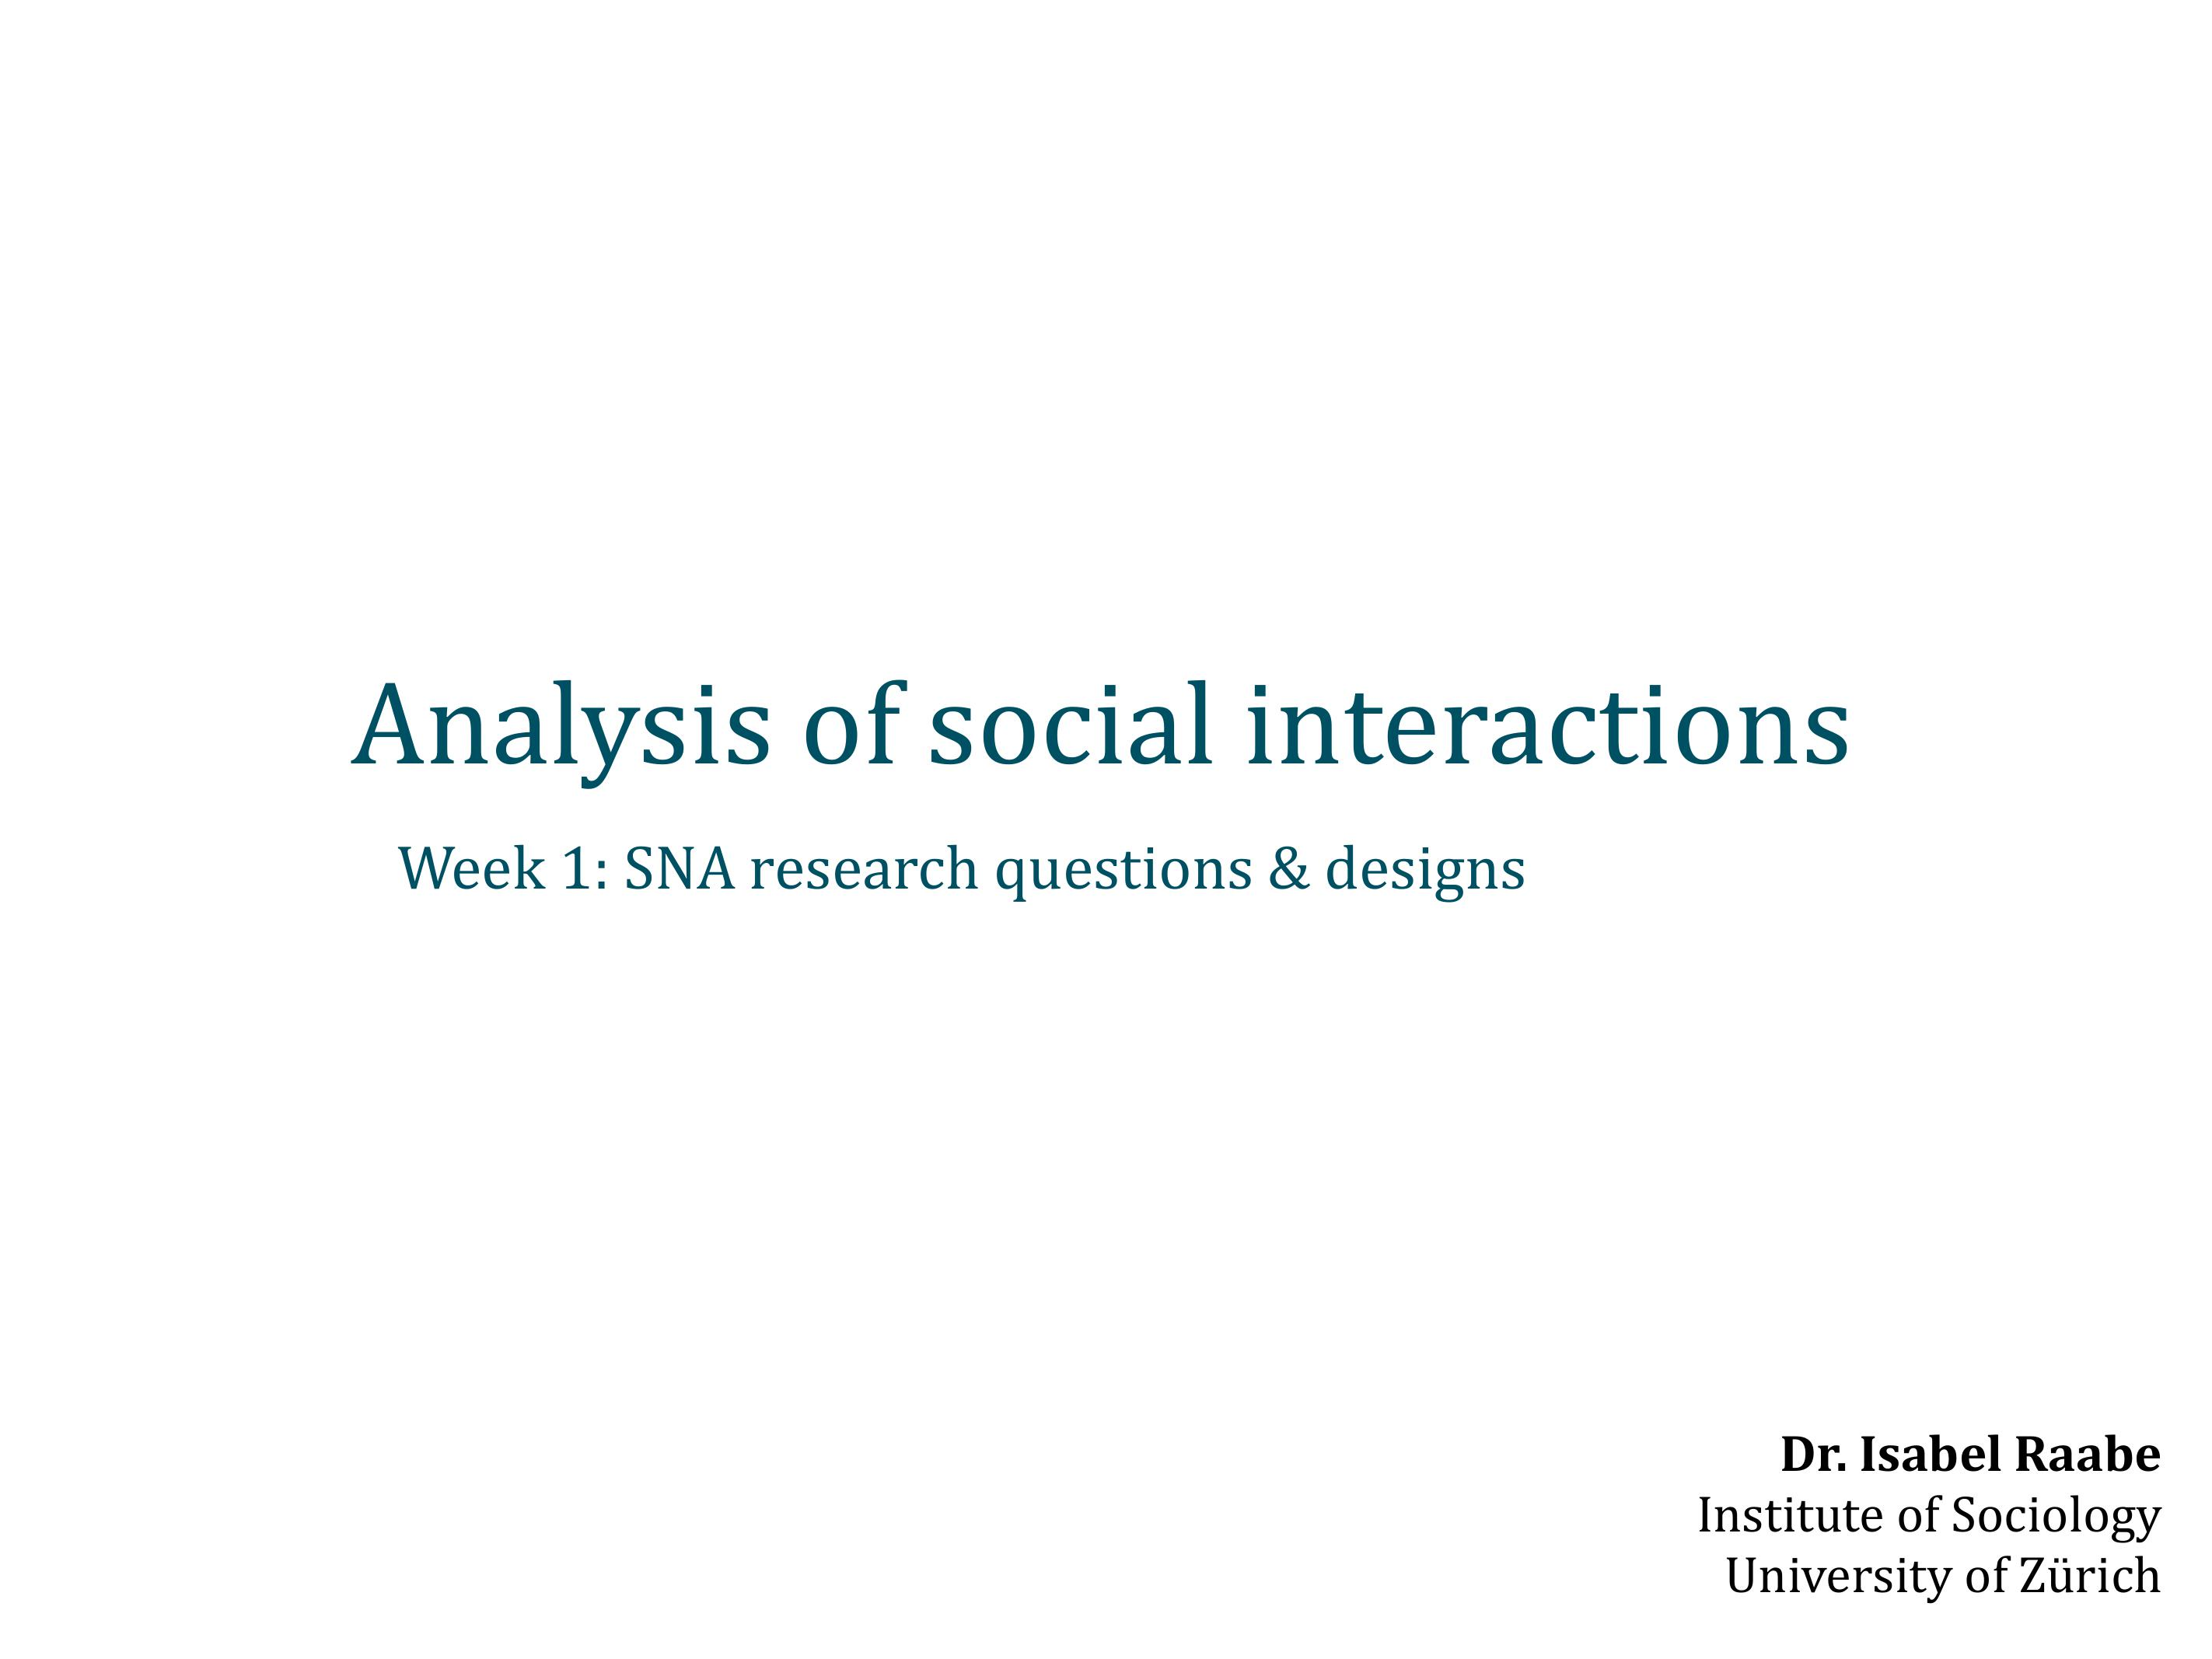Title: (342, 666, 1867, 798)
